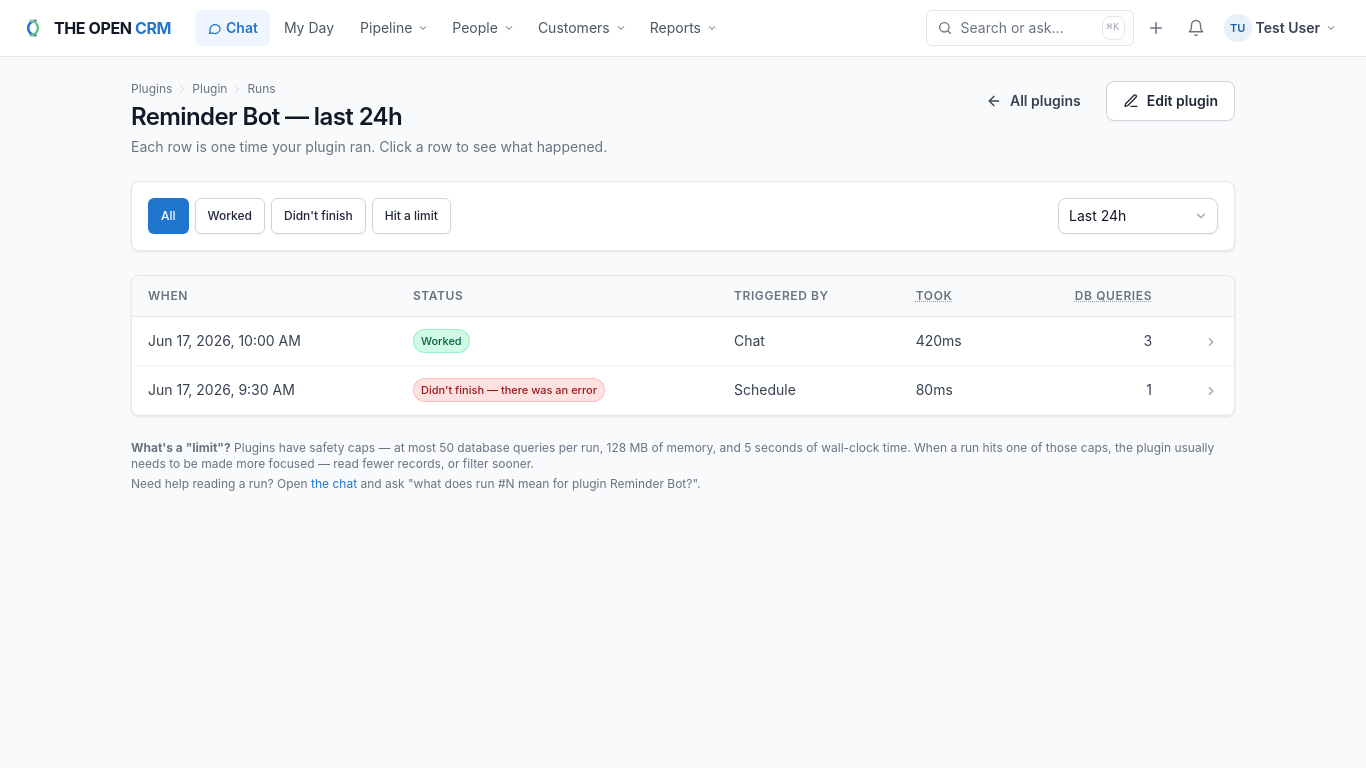
Test: PluginRuns › expands a row when clicked, showing log lines and result summary
Expected: the table is shown, [132,276,1234,415]
Expected: the text "Worked" is shown, [413,329,470,353]
Click the text "Worked".
click(683, 341)  # box [132,316,1234,366]
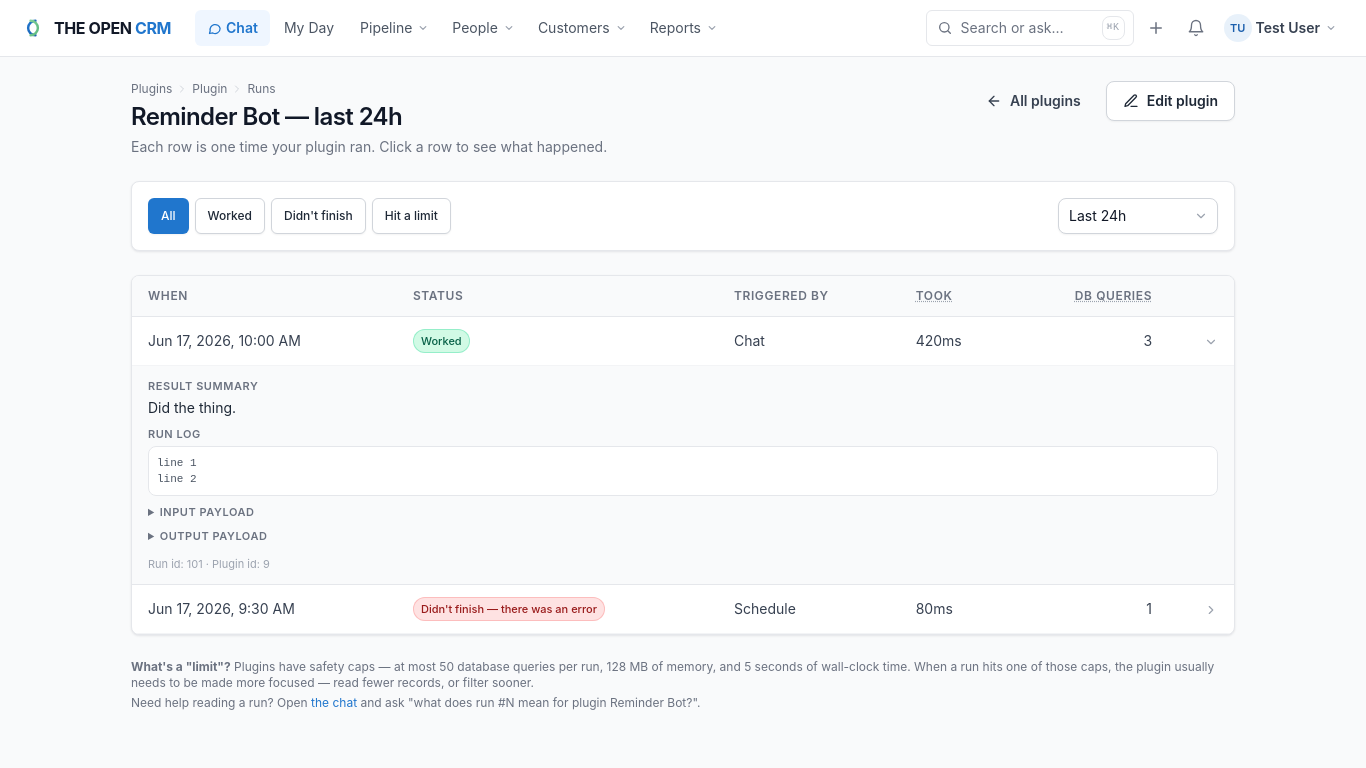
Now the text "Did the thing." is shown, box [148,399,236,416]
Now the text "line 1 line 2" is shown, box [148,446,1218,496]
